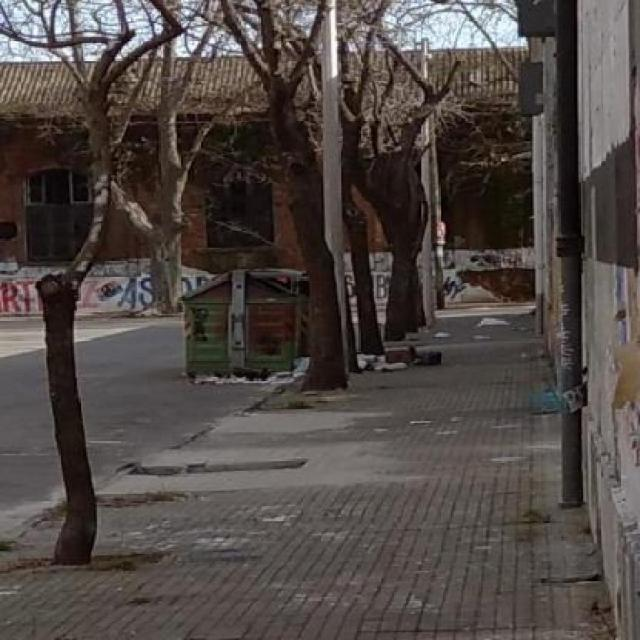garbage: (335, 331, 480, 384), (194, 361, 340, 386)
